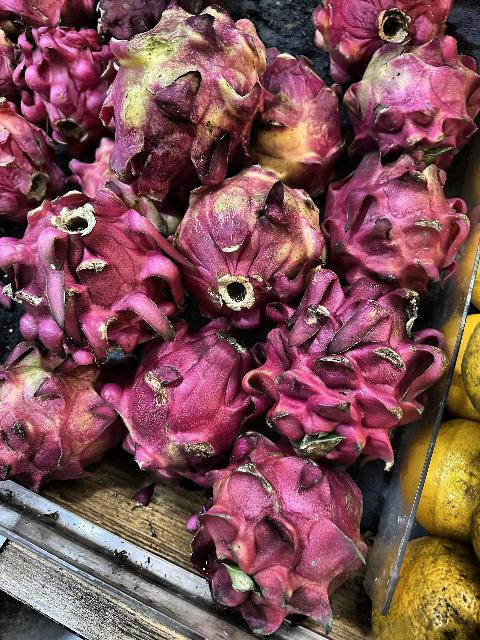buah-naga-belum-matang: (104, 1, 262, 188), (166, 158, 324, 308), (0, 346, 116, 476), (348, 44, 480, 158), (244, 45, 338, 183)
buah-naga-matang: (261, 269, 441, 469), (204, 432, 368, 632), (0, 189, 172, 357), (118, 326, 254, 476), (326, 148, 467, 292), (13, 25, 107, 139), (0, 103, 64, 217), (308, 1, 451, 52)
